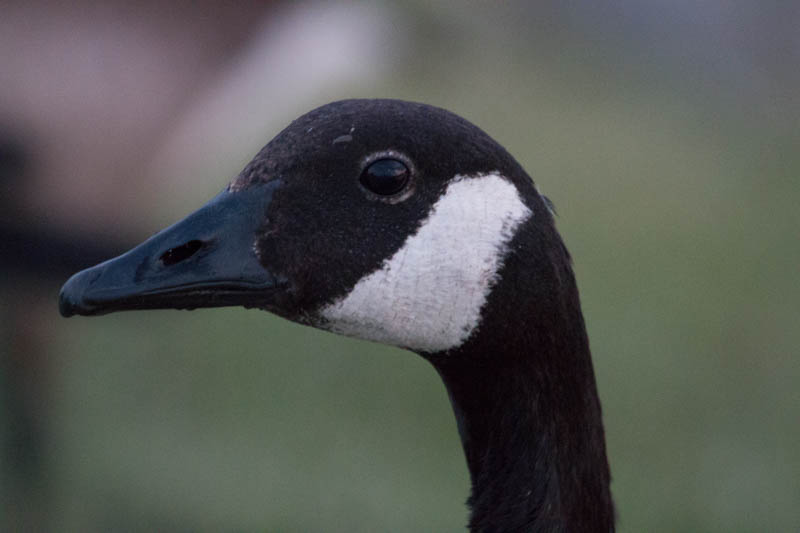goose-head: (56, 99, 570, 357)
